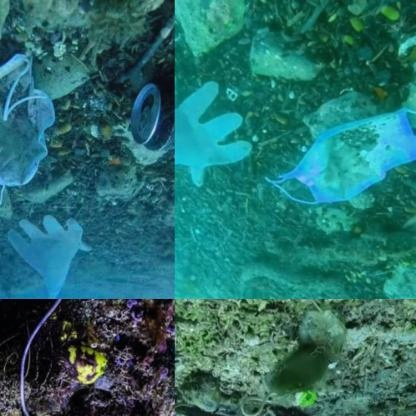Mask: (260, 104, 416, 206), (240, 299, 346, 415), (0, 48, 58, 213), (29, 386, 174, 415)
glove: (175, 79, 252, 189)
